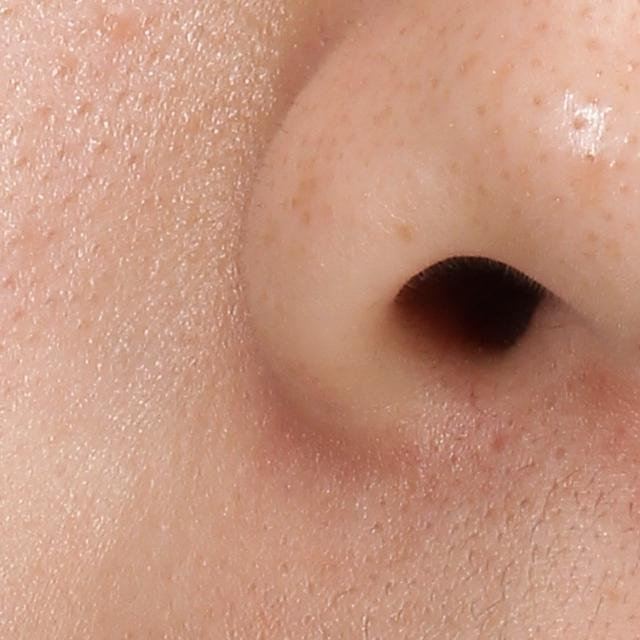atrophic_scar: (487, 426, 516, 457)
comedo: (96, 4, 133, 45), (580, 147, 603, 173)
